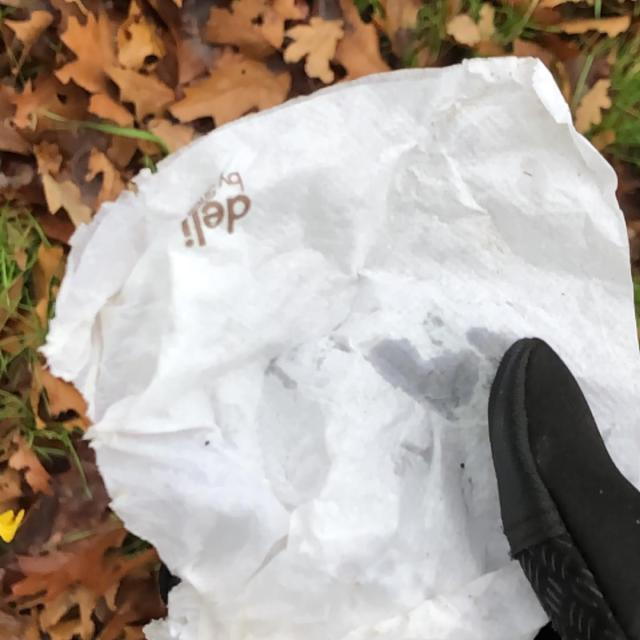Paper: (37, 46, 640, 638)
